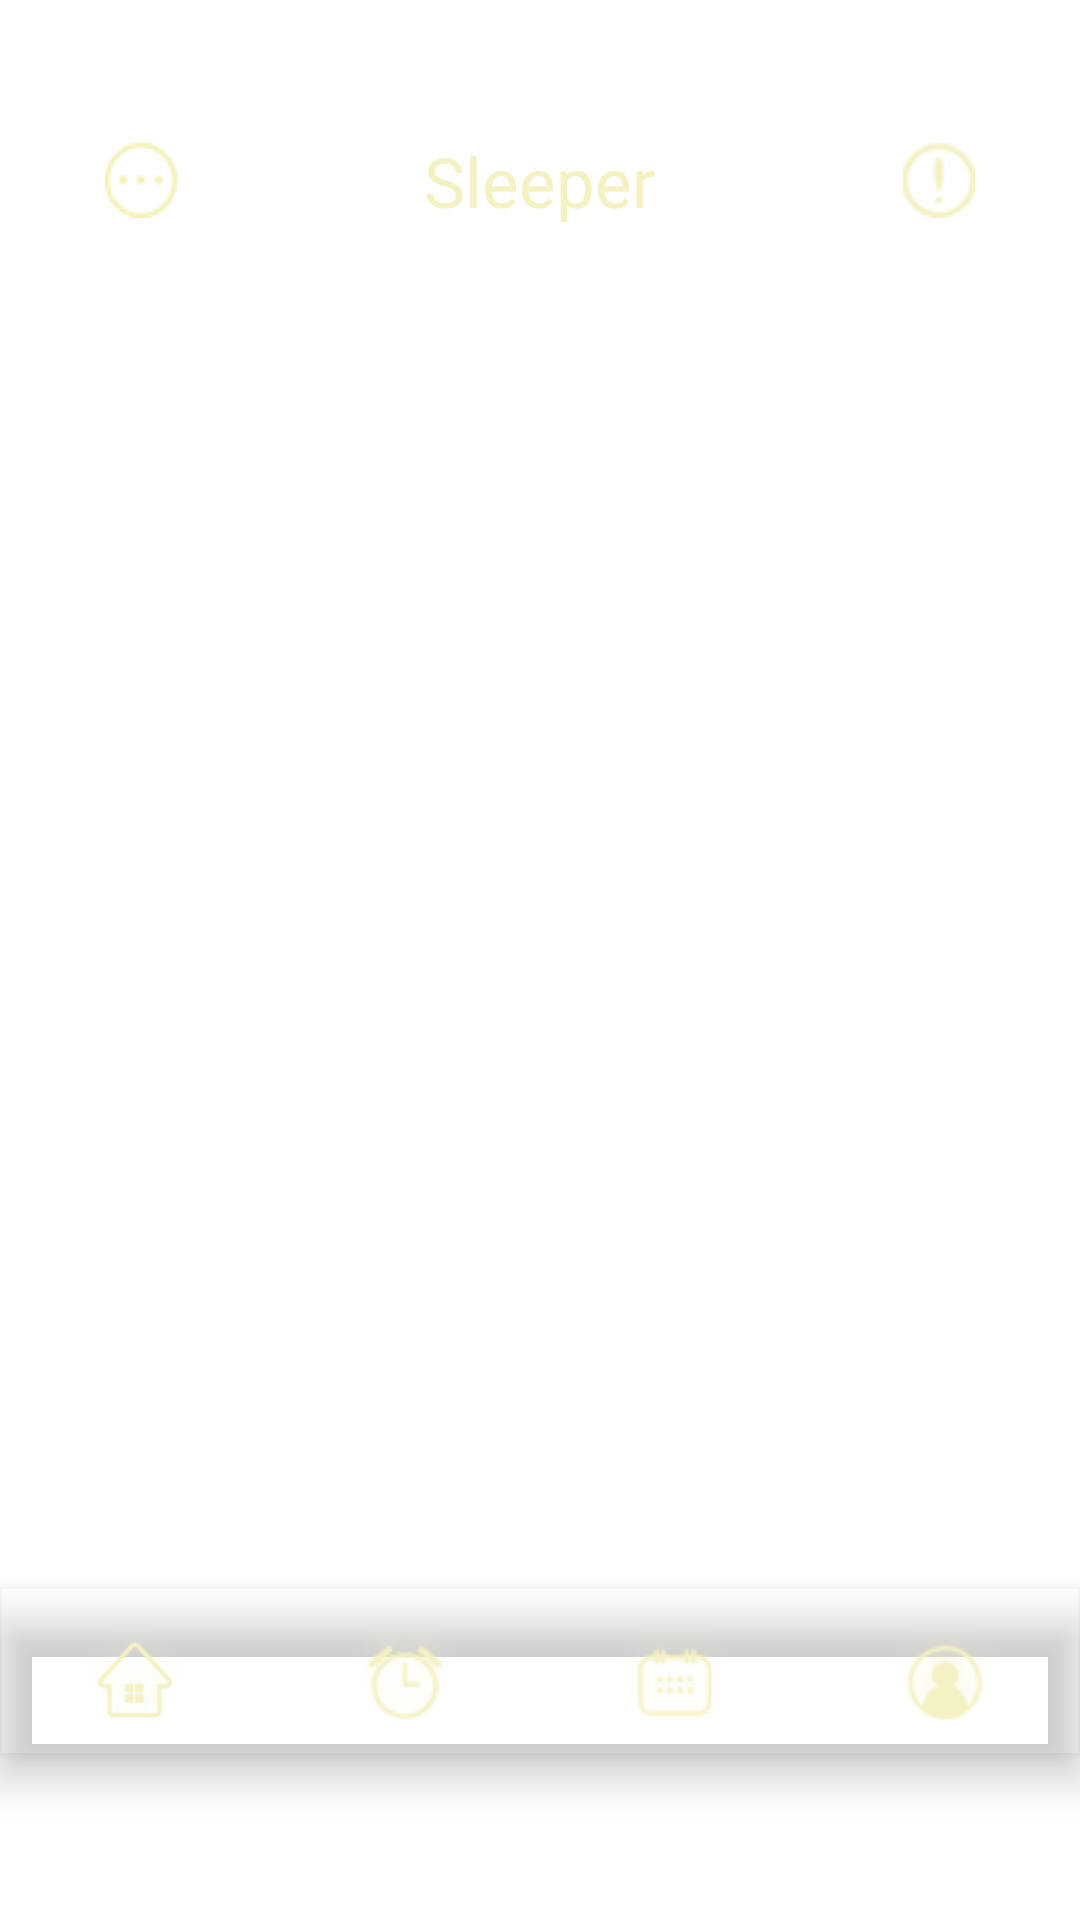

Locate icon controls on the screen. Image size 1080 × 1920, boxes as detection(x1, y1, x2, y2).
issue: detection(903, 143, 975, 218)
show more: detection(105, 143, 177, 218)
